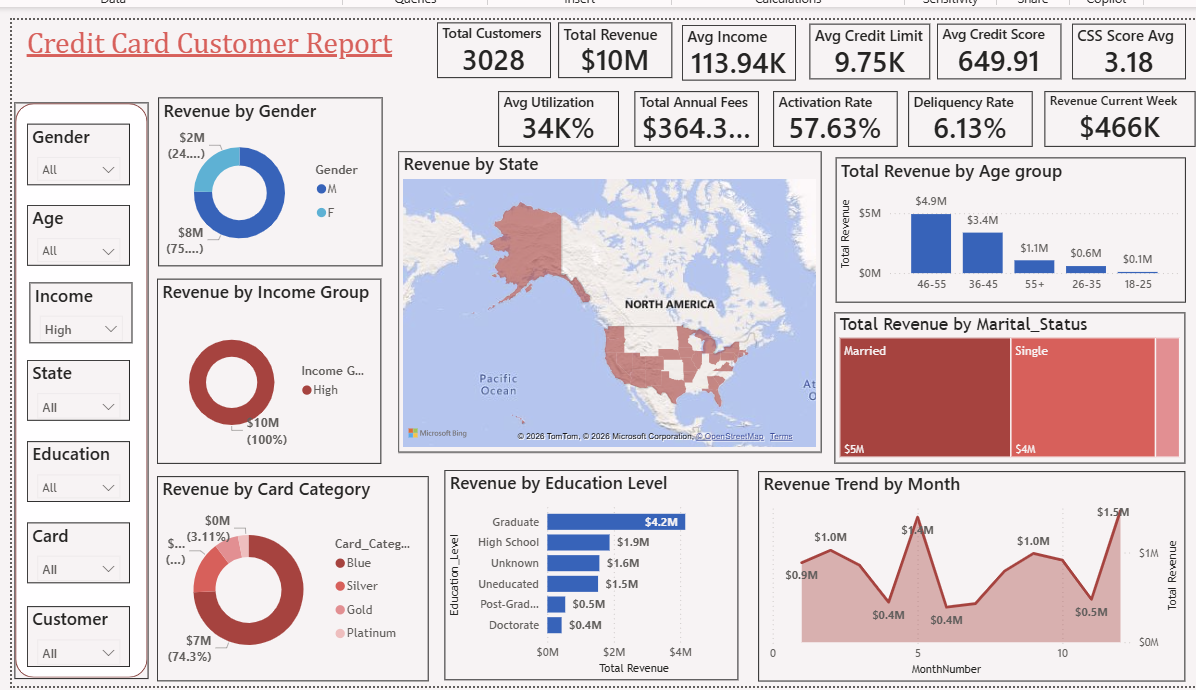

The page's visual inventory and layout, read from the dashboard file:
{"tool":"powerbi","page":{"name":"Customer Report","canvas":[1280,720],"ordinal":0},"visuals":[{"type":"shape","box":[2.6,89.7,144.9,623.1],"z":0},{"type":"textbox","box":[10.3,0,529.5,65.4],"z":1000},{"type":"slicer","title":"Gender","fields":{"Values":["customer.Gender"]},"box":[16.7,112.8,111.5,66.7],"z":2000},{"type":"slicer","title":"Age ","fields":{"Values":["customer.Age group "]},"box":[16.7,200,111.5,65.4],"z":3000},{"type":"slicer","title":"Income","fields":{"Values":["customer.Income Group"]},"box":[19.2,283.3,111.5,65.4],"z":4000},{"type":"slicer","title":"State","fields":{"Values":["customer.state_cd"]},"box":[16.7,367.9,111.5,65.4],"z":5000},{"type":"slicer","title":"Education","fields":{"Values":["customer.Education_Level"]},"box":[16.7,455.1,111.5,65.4],"z":6000},{"type":"slicer","title":"Card","fields":{"Values":["CreditCard.Card_Category"]},"box":[16.7,543.6,111.5,65.4],"z":7000},{"type":"slicer","title":"Customer","fields":{"Values":["customer.Customer_Job"]},"box":[16.7,633.3,111.5,65.4],"z":8000},{"type":"card","title":"Total Customers","fields":{"Values":["CreditCard.total customers"]},"box":[459,2.6,123.1,60.3],"z":9000},{"type":"card","title":"Total Revenue","fields":{"Values":["CreditCard.Total Revenue"]},"box":[591,2.6,123.1,60.3],"z":10000},{"type":"card","title":"Avg Income","fields":{"Values":["Calendar.Average Income"]},"box":[724.4,5.1,123.1,60.3],"z":11000},{"type":"card","title":"Avg Credit Limit","fields":{"Values":["Calendar.Average Credit Limit"]},"box":[862.8,3.8,130.8,60.3],"z":12000},{"type":"card","title":"CSS Score Avg","fields":{"Values":["Calendar.CSS Score Average"]},"box":[1146.2,3.8,123.1,60.3],"z":13000},{"type":"card","title":"Avg Utilization","fields":{"Values":["Sum(CreditCard.Avg_Utilization_Ratio)"]},"box":[464.7,77,162.6,59.9],"z":14000},{"type":"card","title":"Avg Credit Score","fields":{"Values":["Calendar.Average Credit Score"]},"box":[1000,3.8,134.6,60.3],"z":15000},{"type":"card","title":"Total Annual Fees","fields":{"Values":["Sum(CreditCard.Annual_Fees)"]},"box":[642,77,145.5,59.9],"z":16000},{"type":"card","title":"Activation Rate","fields":{"Values":["Calendar.Activation Rate"]},"box":[805.8,77,134.5,59.9],"z":17000},{"type":"card","title":"Deliquency Rate","fields":{"Values":["Calendar.Delinquency Rate"]},"box":[956.3,77,134.5,59.9],"z":18000},{"type":"card","title":" Revenue Current Week","fields":{"Values":["Calendar.Revenue current week"]},"box":[1106.7,77,160.2,59.9],"z":19000},{"type":"donutChart","title":" Revenue by Gender","fields":{"Category":["customer.Gender"],"Y":["CreditCard.Total Revenue"]},"box":[157.7,83.3,242.3,182.1],"z":20000},{"type":"clusteredColumnChart","fields":{"Category":["customer.Age group "],"Y":["CreditCard.Total Revenue"]},"box":[891,148.7,378.2,156.4],"z":21000},{"type":"donutChart","title":"Revenue by Income Group","fields":{"Y":["CreditCard.Total Revenue"],"Category":["customer.Income Group"]},"box":[156.4,279.5,242.3,200],"z":22000},{"type":"clusteredBarChart","title":"Revenue by State","fields":{"Y":["CreditCard.Total Revenue"],"Category":["customer.state_cd"]},"box":[418.2,146.7,457.3,321.6],"z":23000},{"type":"clusteredBarChart","title":"Total Revenue by Marital Status","fields":{"Category":["customer.Marital_Status"],"Y":["CreditCard.Total Revenue"]},"box":[889.7,316.7,379.5,162.8],"z":24000},{"type":"donutChart","title":"Revenue by Card Category","fields":{"Category":["CreditCard.Card_Category"],"Y":["CreditCard.Total Revenue"]},"box":[156.4,493.6,293.6,221.8],"z":25000},{"type":"barChart","title":"Revenue by Education Level","fields":{"Y":["CreditCard.Total Revenue"],"Category":["customer.Education_Level"]},"box":[467.9,485.9,317.9,226.9],"z":26000},{"type":"lineChart","title":"Revenue Trend by Month","fields":{"Category":["Calendar.MonthNumber"],"Y2":["CreditCard.Total Revenue"]},"box":[806.4,488.5,461.5,226.9],"z":27000}]}

Visuals, with their boxes in screenshot pixels (x1, y1, x2, y2):
shape: [12,101,145,676]
textbox: [19,19,507,79]
"Gender" slicer: [25,123,127,184]
"Age " slicer: [25,203,127,263]
"Income" slicer: [27,280,130,340]
"State" slicer: [25,358,127,418]
"Education" slicer: [25,438,127,498]
"Card" slicer: [25,520,127,580]
"Customer" slicer: [25,602,127,663]
"Total Customers" card: [432,21,546,77]
"Total Revenue" card: [554,21,667,77]
"Avg Income" card: [677,23,790,79]
"Avg Credit Limit" card: [804,22,925,78]
"CSS Score Avg" card: [1066,22,1179,78]
"Avg Utilization" card: [438,90,587,145]
"Avg Credit Score" card: [931,22,1055,78]
"Total Annual Fees" card: [601,90,735,145]
"Activation Rate" card: [752,90,876,145]
"Deliquency Rate" card: [891,90,1014,145]
" Revenue Current Week" card: [1029,90,1177,145]
" Revenue by Gender" donutChart: [155,95,378,263]
clusteredColumnChart - customer.Age group  x CreditCard.Total Revenue: [830,156,1179,300]
"Revenue by Income Group" donutChart: [153,276,377,461]
"Revenue by State" clusteredBarChart: [395,154,816,450]
"Total Revenue by Marital Status" clusteredBarChart: [829,311,1179,461]
"Revenue by Card Category" donutChart: [153,474,424,678]
"Revenue by Education Level" barChart: [440,466,733,676]
"Revenue Trend by Month" lineChart: [752,469,1178,678]
